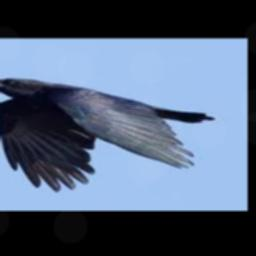Crow: (0, 78, 216, 192)
